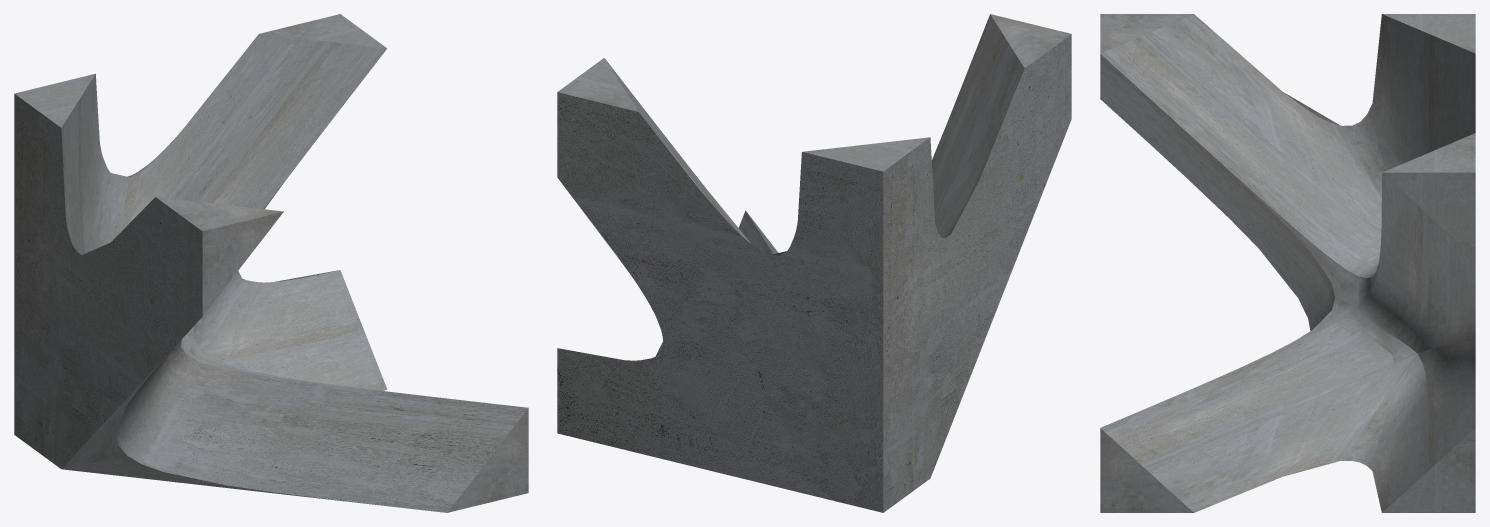
Rendered from module_S3.fbx.
The picture shows the model from 3 angles, left to right: view 1: azimuth 30°, elevation 25°; view 2: azimuth 150°, elevation 25°; view 3: azimuth 270°, elevation 25°; orthographic projection.
Parts seen in each view (by area): view 1: modules; view 2: modules; view 3: modules.
Boxes of the visible parts, x1=… form: modules: x1=14, y1=14, x2=528, y2=512; modules: x1=557, y1=14, x2=1071, y2=512; modules: x1=1100, y1=14, x2=1475, y2=512.
Size of the model in its own units: 1000 by 1000 by 1000.
Materials: 1 (1 with a texture image).
